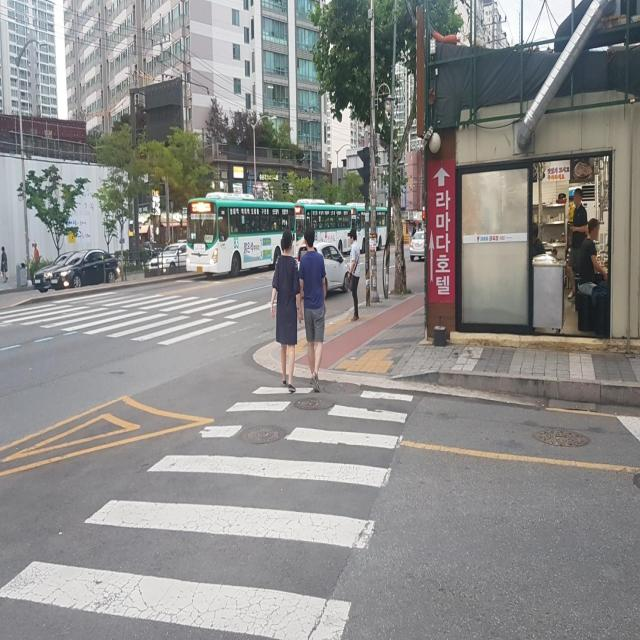횡단보도: (0, 384, 417, 640), (0, 277, 296, 354)
